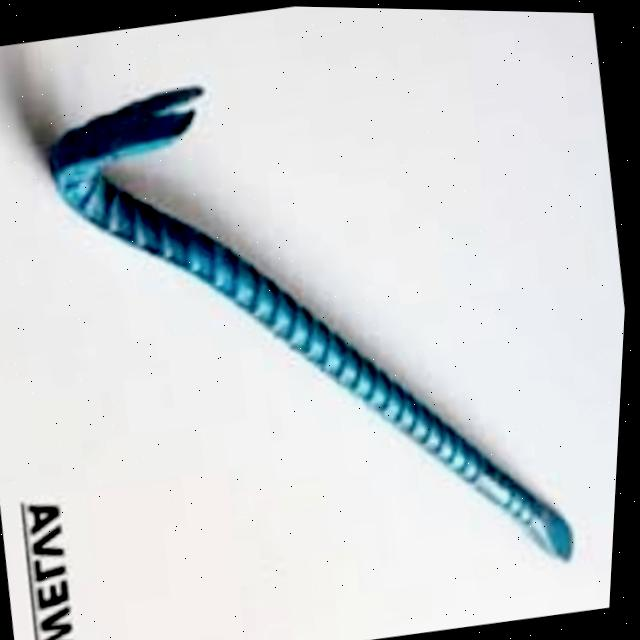crow bar: (14, 19, 619, 640)
